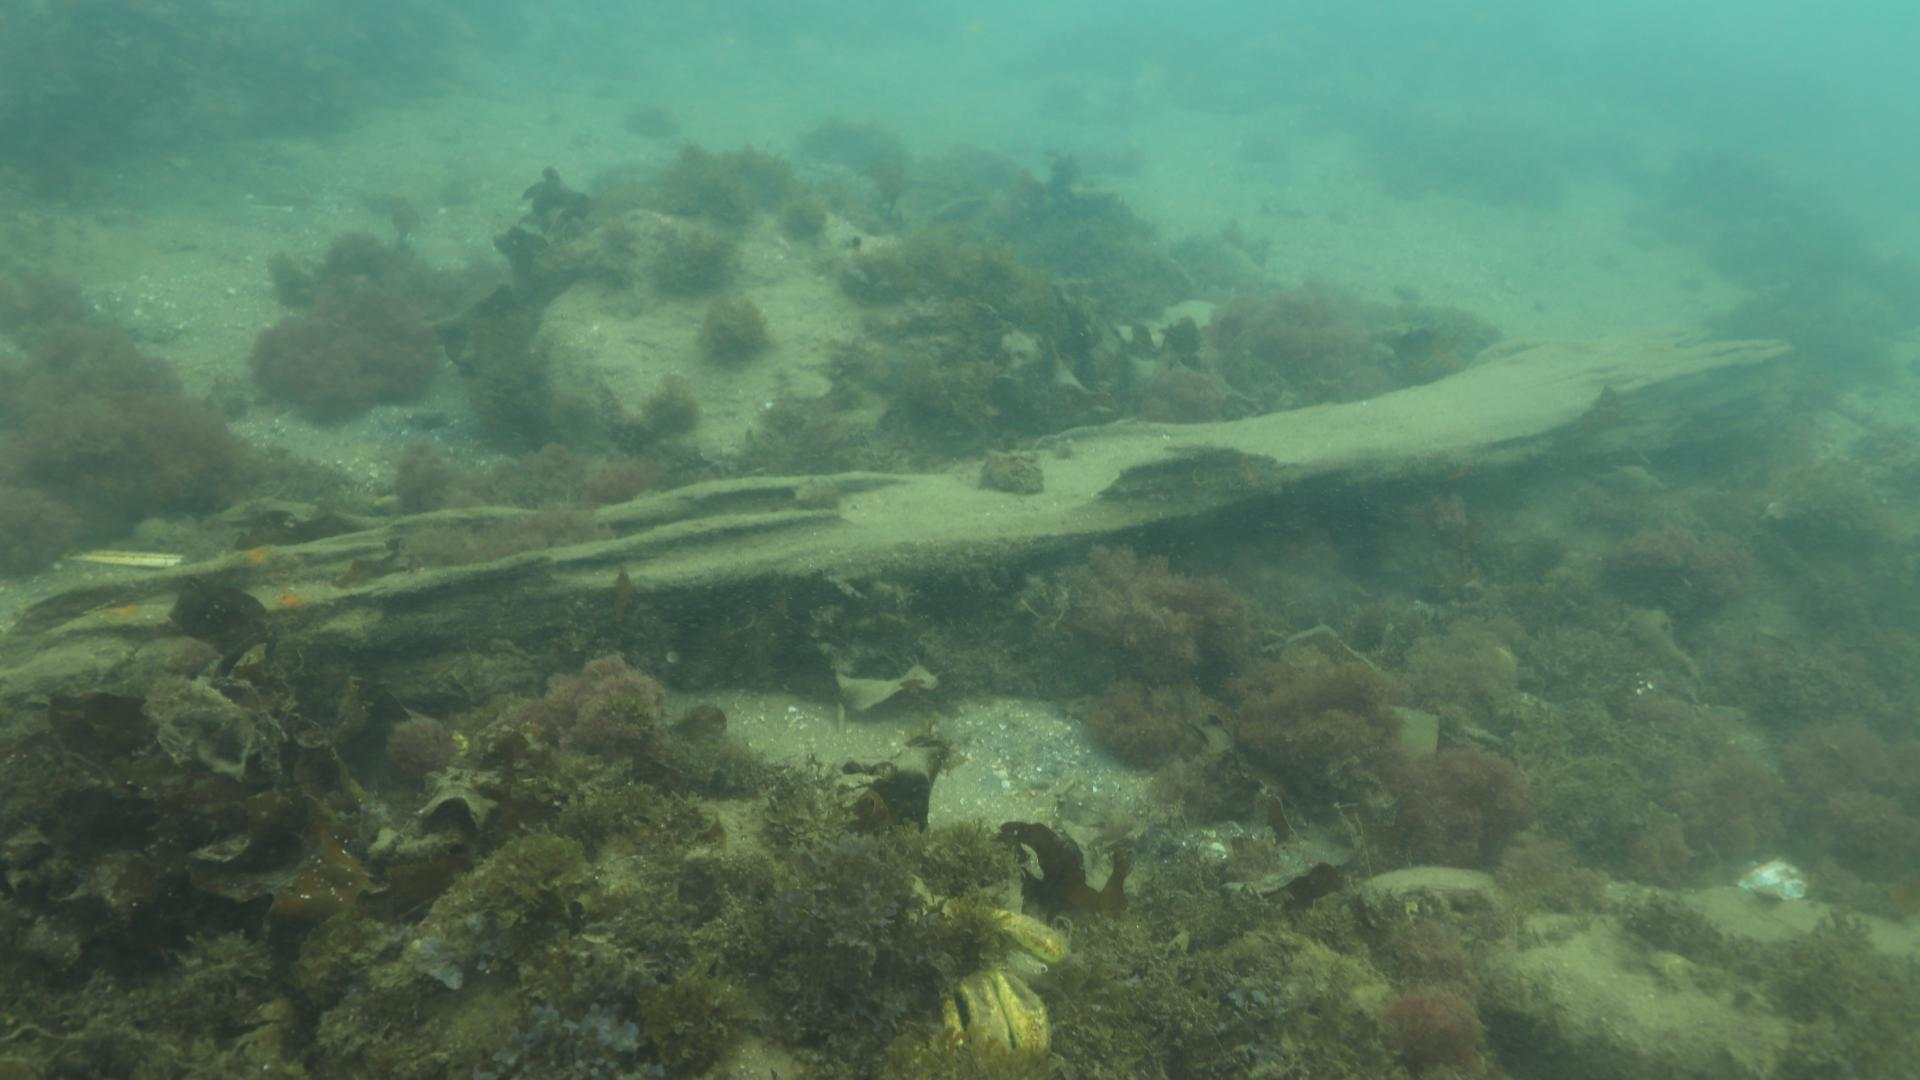wood: (0, 335, 1796, 709)
